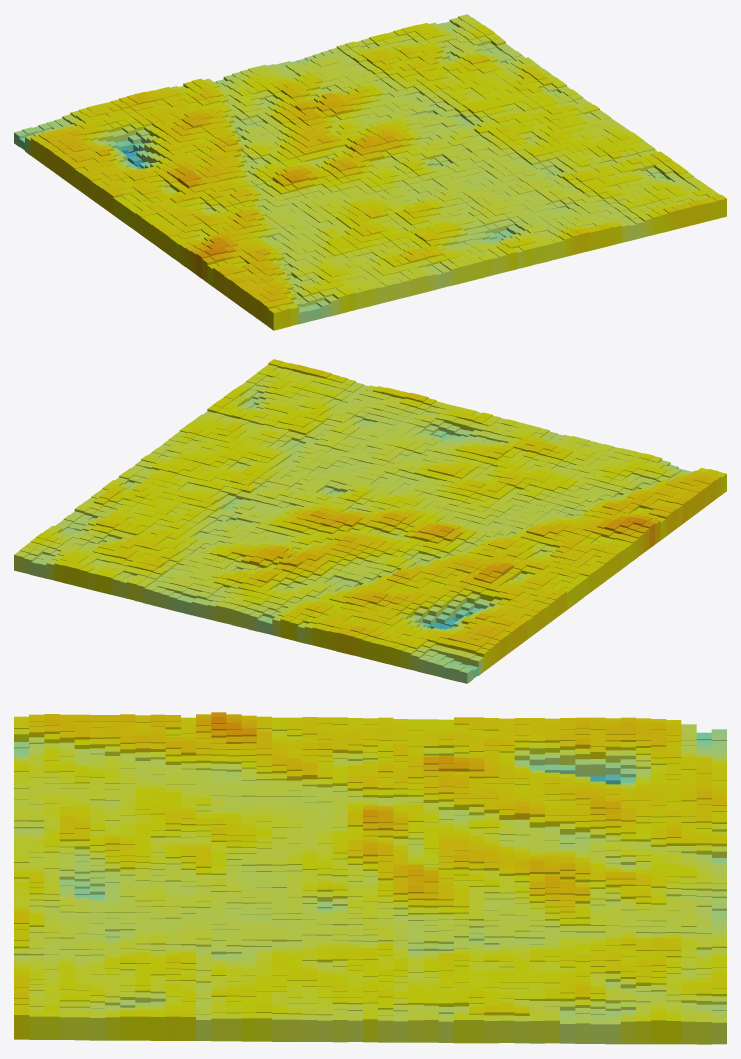
The model's file is population.glb.
The picture shows the model from 3 angles, top to bottom: view 1: azimuth 30°, elevation 25°; view 2: azimuth 150°, elevation 25°; view 3: azimuth 270°, elevation 25°; orthographic projection. The views are drawn at different scales.
Parts seen in each view (by area): view 1: population; view 2: population; view 3: population.
Part boxes in pixels (left/top/right/bottom): population: left=14, top=14, right=726, bottom=330; population: left=14, top=359, right=726, bottom=683; population: left=14, top=712, right=726, bottom=1044.
Size of the model in its own units: 4724 by 247 by 4685.
